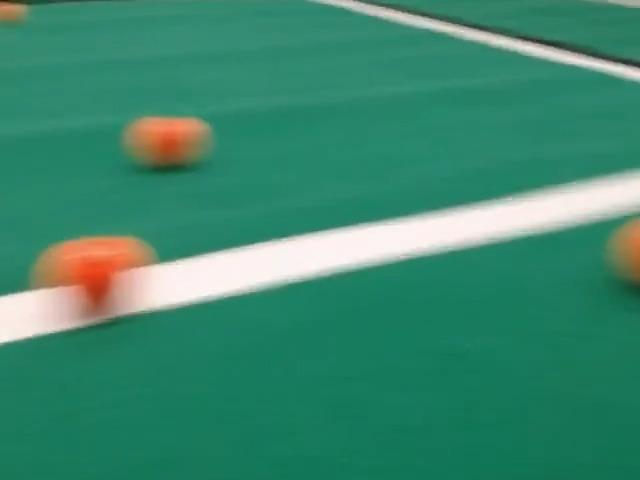Ball: (31, 236, 154, 306), (123, 116, 211, 168), (608, 218, 639, 285), (0, 1, 27, 23)
